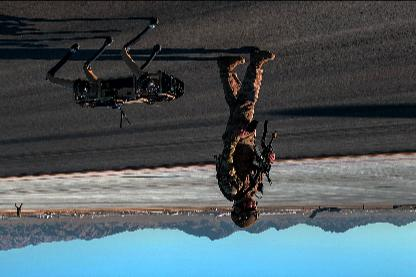C2: (306, 208, 342, 218)
F14: (411, 206, 415, 212)
